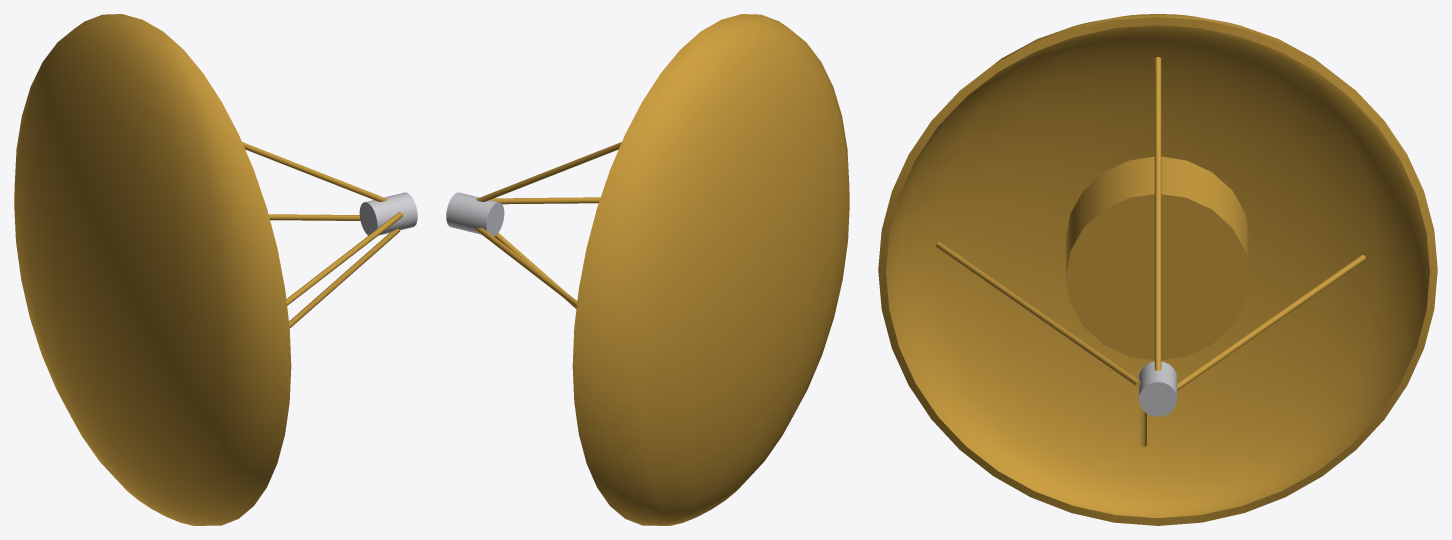
File: Satelite_Antena.obj
The picture shows the model from 3 angles, left to right: view 1: azimuth 30°, elevation 25°; view 2: azimuth 150°, elevation 25°; view 3: azimuth 270°, elevation 25°; orthographic projection. The views are drawn at different scales.
Parts seen in each view (by area): view 1: Satelite_Antena; view 2: Satelite_Antena; view 3: Satelite_Antena.
Part boxes in pixels (x1,y1,x2,y2): Satelite_Antena: (14, 14, 417, 525); Satelite_Antena: (446, 14, 849, 525); Satelite_Antena: (878, 14, 1437, 525).
Bounding box in the file's own units: 5.55 × 7.95 × 7.92.
